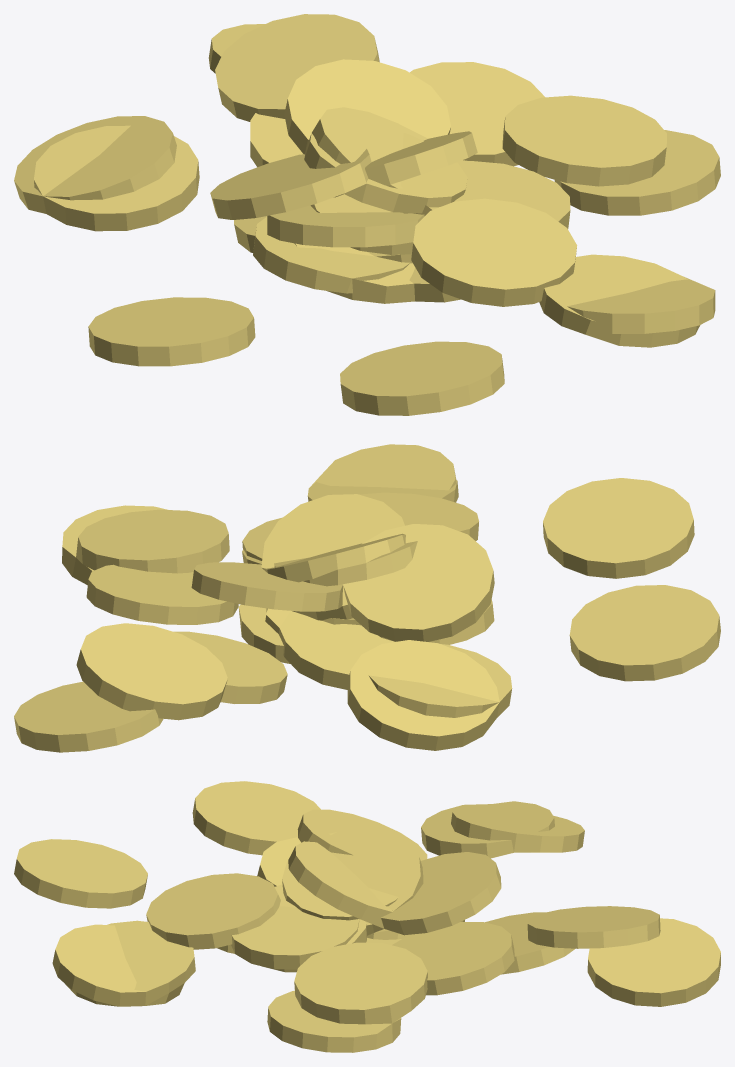
File: coin_pile.glb
3 renders of one model, top to bottom at view 1: azimuth 30°, elevation 25°; view 2: azimuth 150°, elevation 25°; view 3: azimuth 270°, elevation 25°, orthographic. The views are drawn at different scales.
Visible parts, largest first — view 1: coin_pile; view 2: coin_pile; view 3: coin_pile.
Part boxes in pixels (left/top/right/bottom): coin_pile: left=14, top=14, right=720, bottom=415; coin_pile: left=14, top=444, right=720, bottom=752; coin_pile: left=14, top=781, right=720, bottom=1052.
Bounding box in the file's own units: 0.0729 × 0.0132 × 0.0845.
